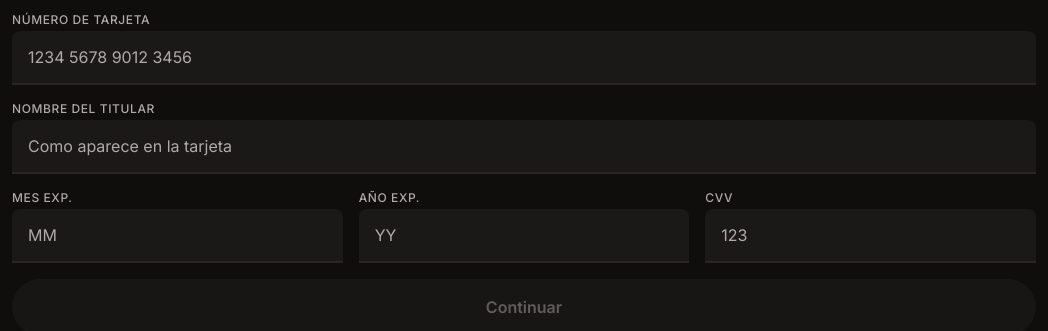
Test case: CreditCardForm › shows MasterCard logo when card starts with 5
Type "5500 0055 5555 5559" into the field labelled "Número de tarjeta". click: (524, 57)
box: [12, 31, 1036, 83]
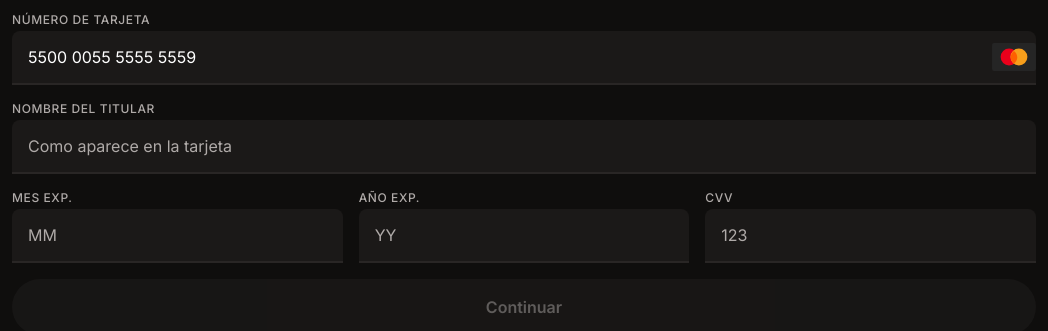
Result: the picture with alt text "mastercard" is shown at [992, 43, 1036, 71]
